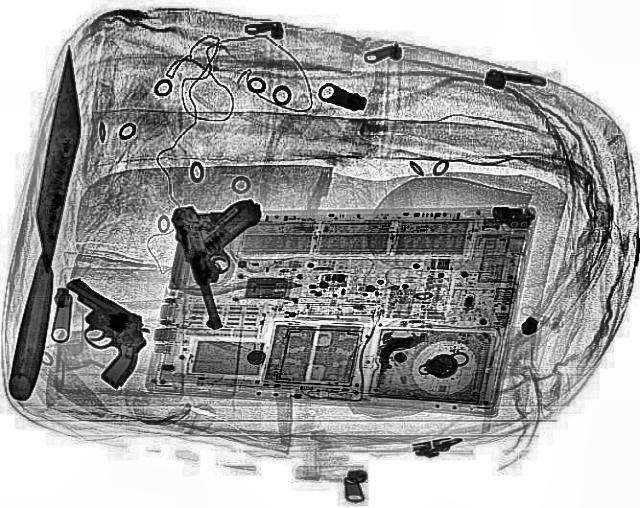Gun: (11, 275, 175, 389), (167, 193, 295, 329)
Knife: (7, 44, 91, 400)
